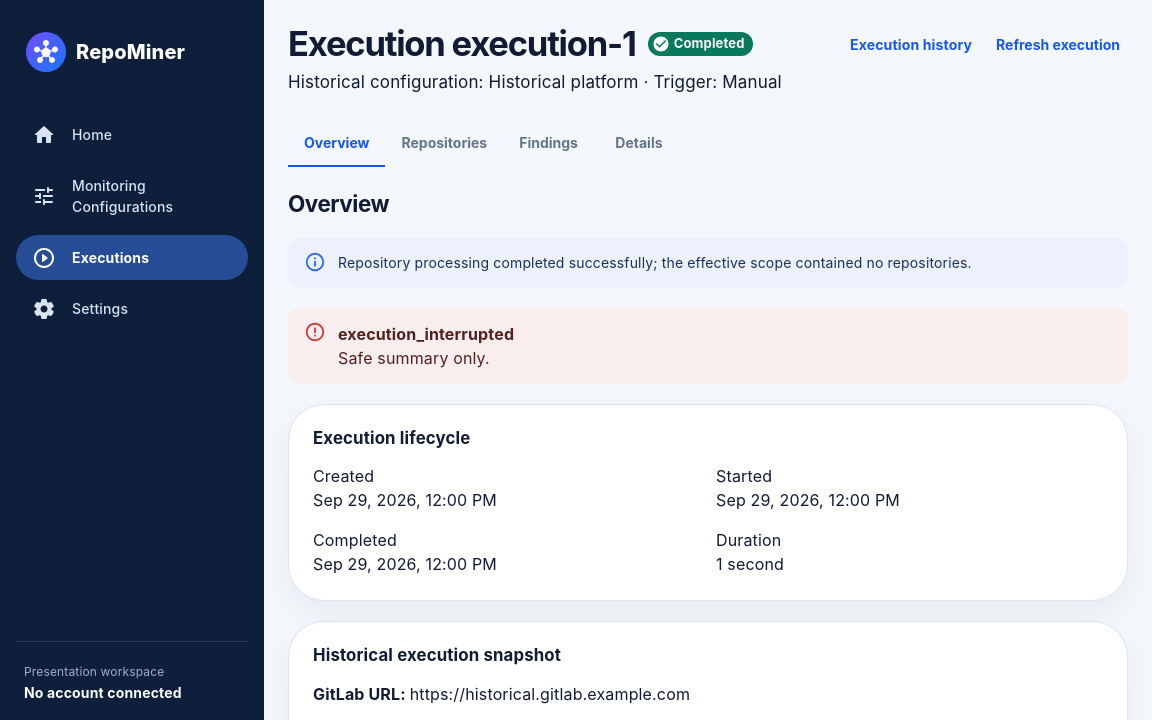
Scenario: shows honest repository and findings states and safe execution details
Check: the heading "Execution execution-1" is shown, box [288,24,636,64]
Click the tab "Repositories" at (444, 143), box [385,119,503,167]
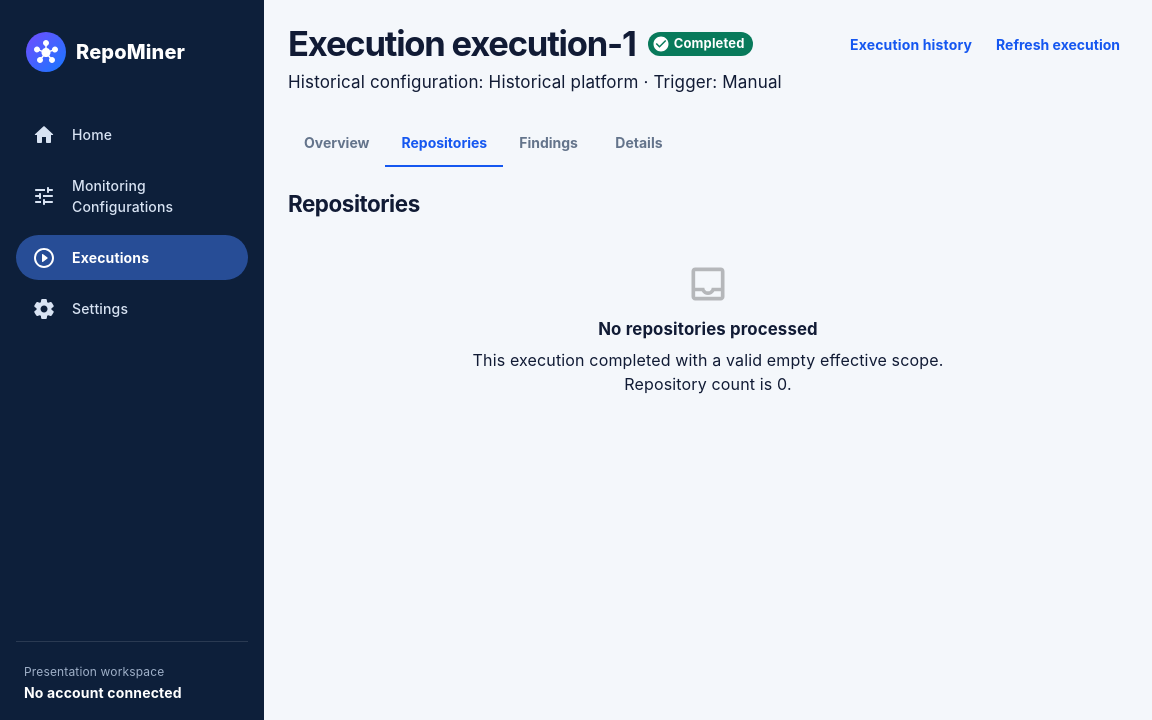
Check: the text "valid empty effective scope" is shown, box [473,350,944,394]
Click the tab "Findings" at (549, 143), box [503,119,594,167]
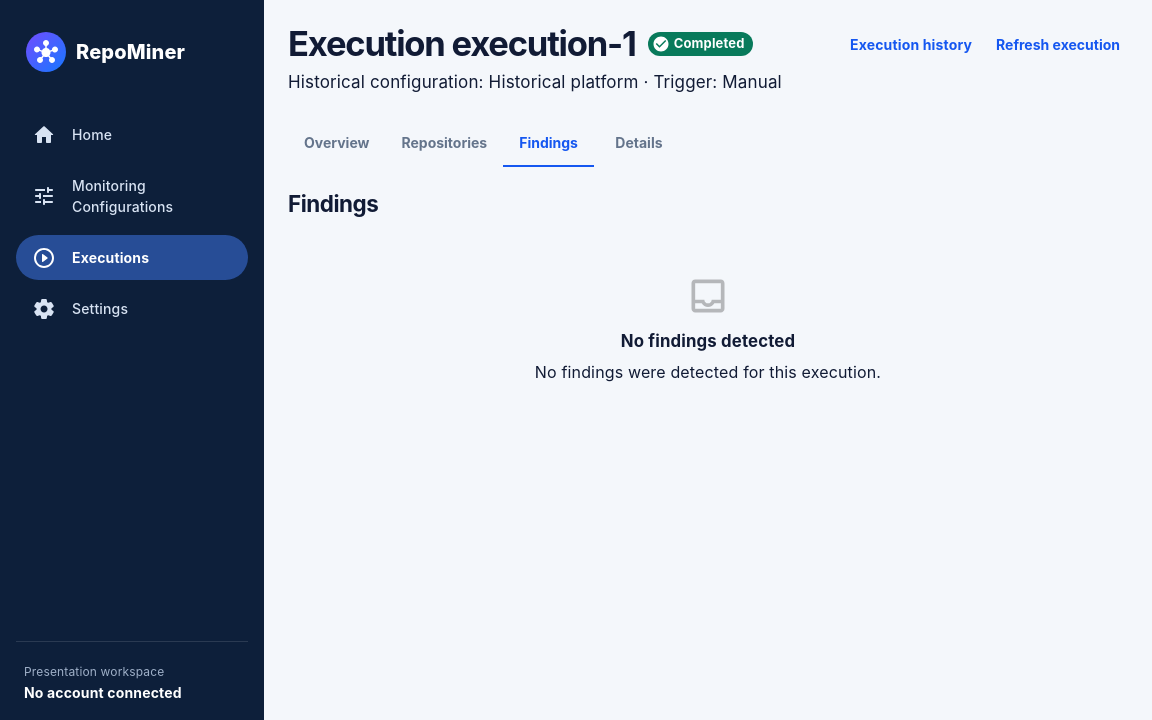
Check: the text "No findings were detected for this execution." is shown, box [535,360,881,384]
Click the tab "Details" at (639, 143), box [594,119,684,167]
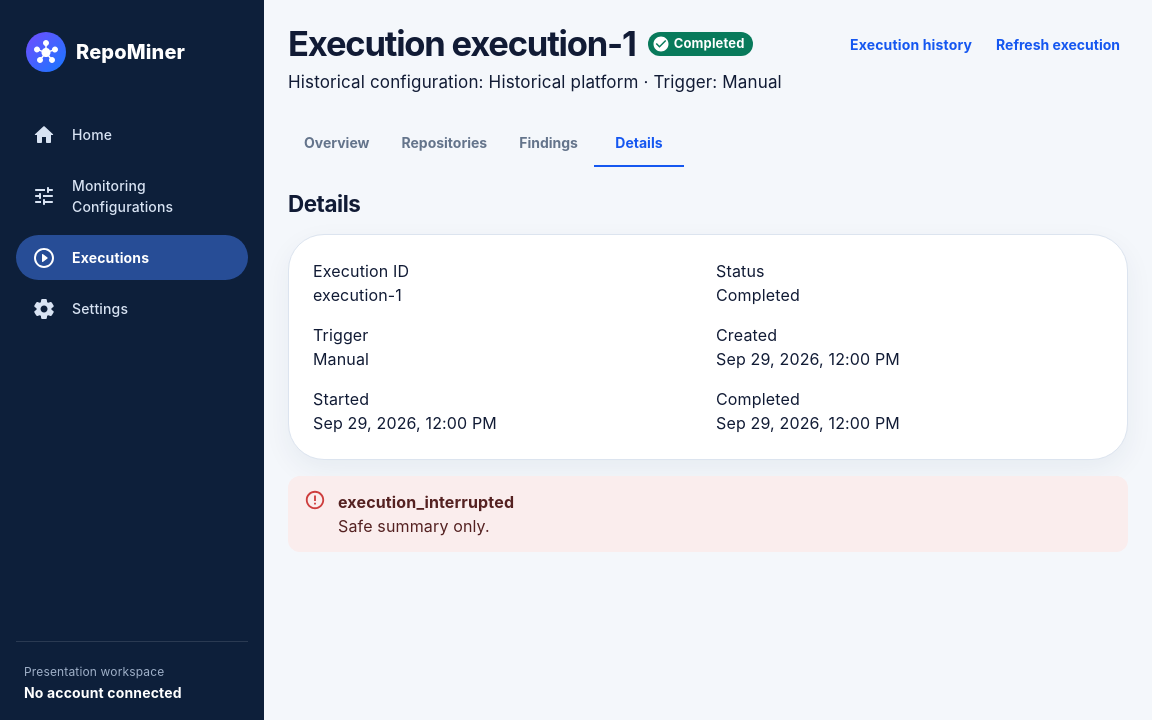
Check: the text "execution_interrupted" is shown, box [338,490,514,514]
Check: the text "Safe summary only." is shown, box [338,514,514,538]
